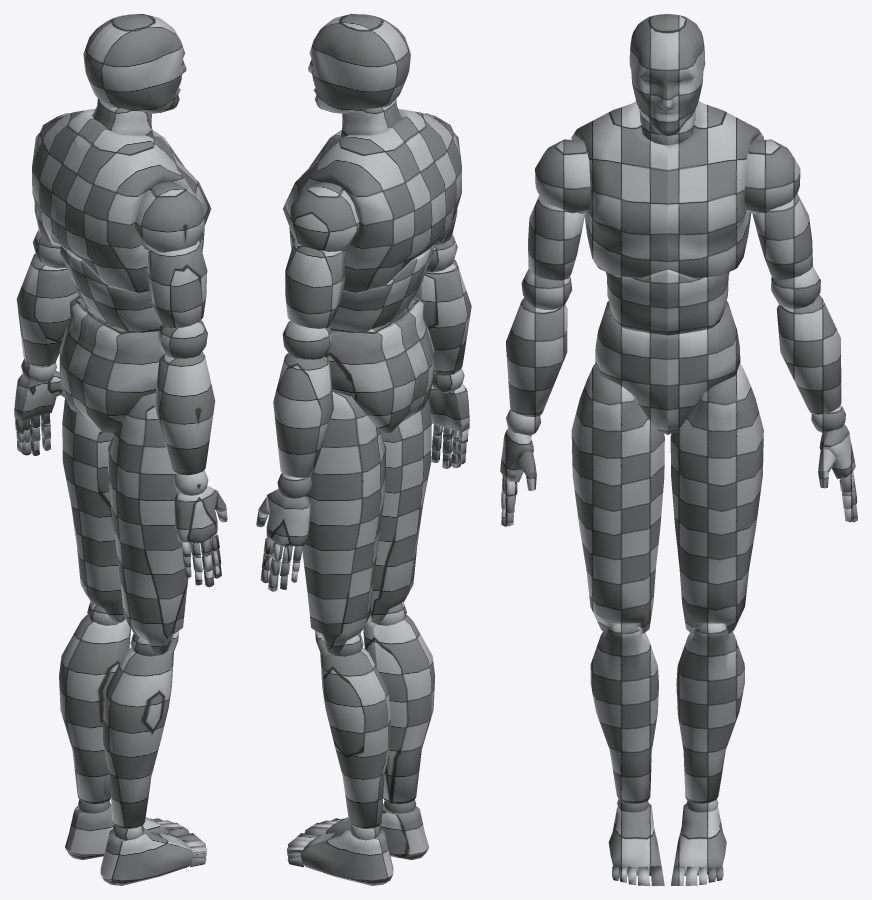
File: SM_temp_character_scale_a.fbx
The picture shows the model from 3 angles, left to right: view 1: azimuth 30°, elevation 25°; view 2: azimuth 150°, elevation 25°; view 3: azimuth 270°, elevation 25°; orthographic projection.
Visible parts, largest first — view 1: Mesh; view 2: Mesh; view 3: Mesh.
Boxes of the visible parts, x1,y1,x2,y2 form: Mesh: (14, 14, 227, 885); Mesh: (256, 14, 471, 885); Mesh: (500, 14, 857, 885).
Bounding box in the file's own units: 0.3191 × 1.85 × 0.7129.
